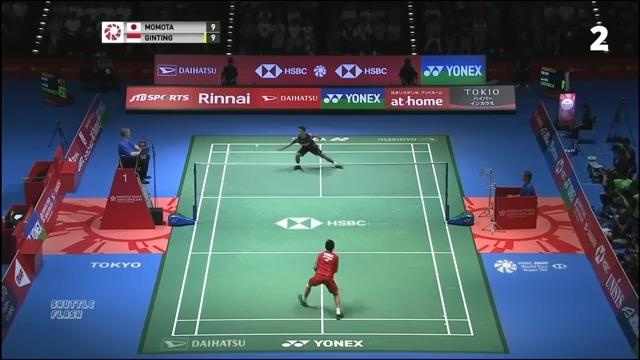Shuttlecock: (251, 142, 263, 150)
